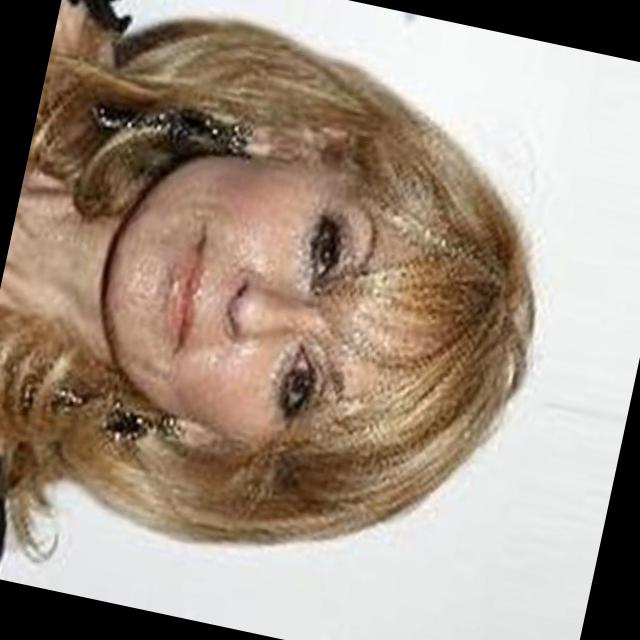bareface: (61, 60, 553, 556)
